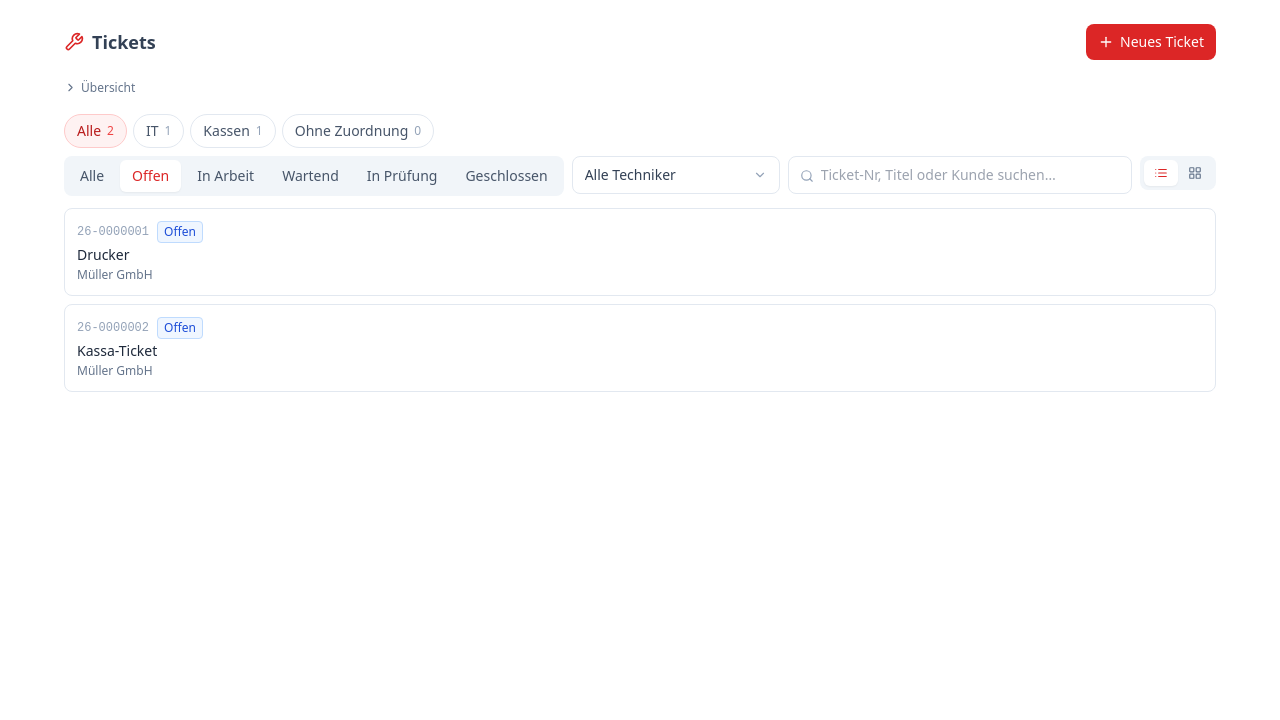
it: TicketsPage › groups the board into per-pool swimlanes
The width and height of the screenshot is (1280, 720).
Expected: the text "Drucker" is shown, x1=77 y1=244 x2=130 y2=264
Click the button with test id "view-toggle-board" at (1195, 172), box x1=1178 y1=160 x2=1212 y2=186
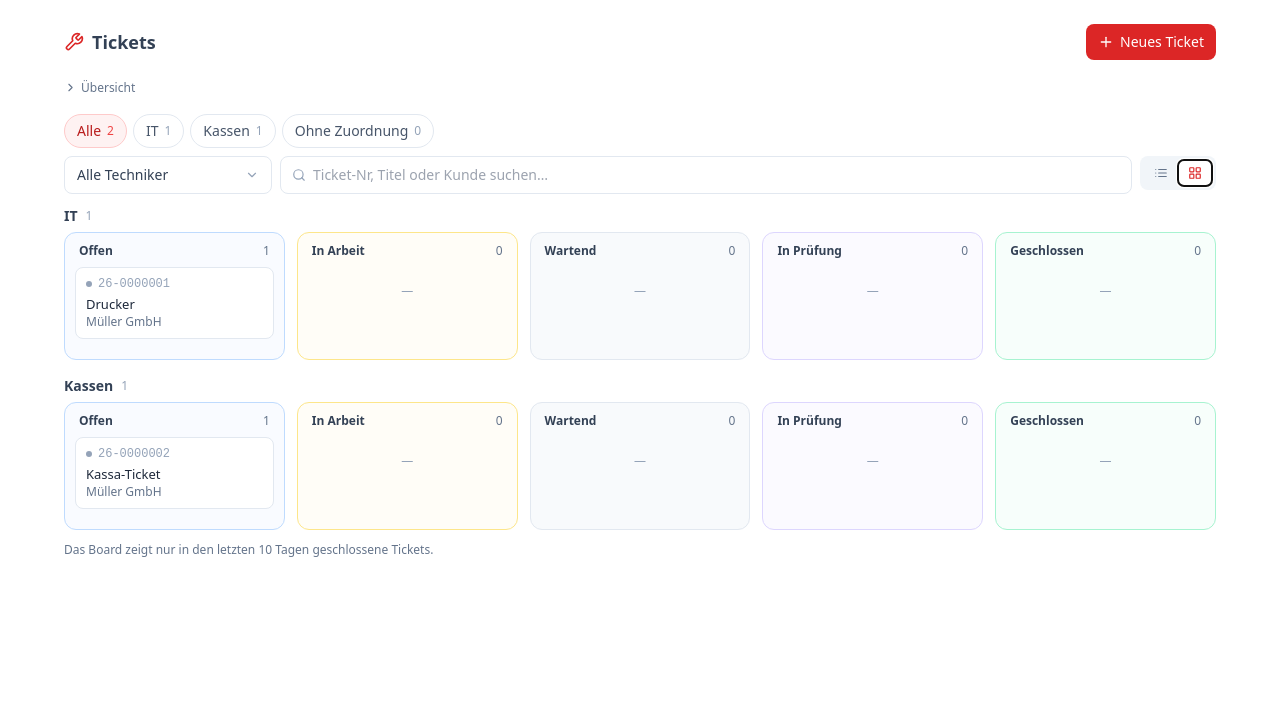
Expected: the element with test id "ticket-board" is shown, x1=64 y1=206 x2=1216 y2=530
Expected: the element with test id "board-lane-2" is shown, x1=64 y1=206 x2=1216 y2=360
Expected: the element with test id "board-lane-1" is shown, x1=64 y1=376 x2=1216 y2=530
